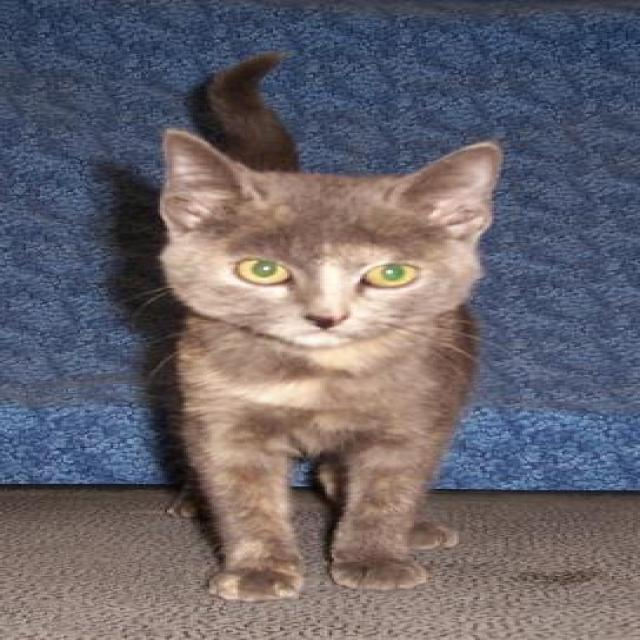Cats: (146, 50, 506, 602)
